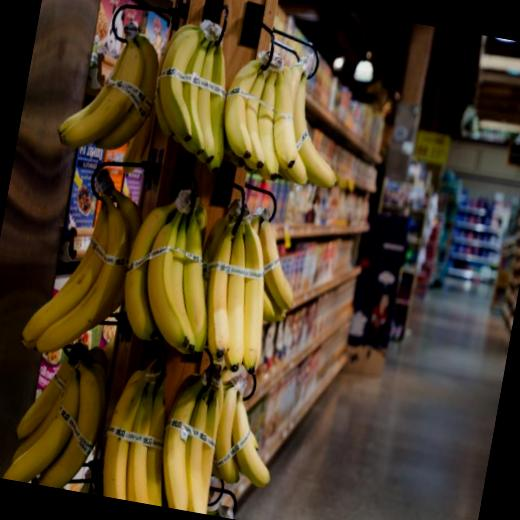Banana: (18, 166, 310, 400), (57, 0, 362, 193), (4, 327, 288, 520), (39, 356, 113, 494)
